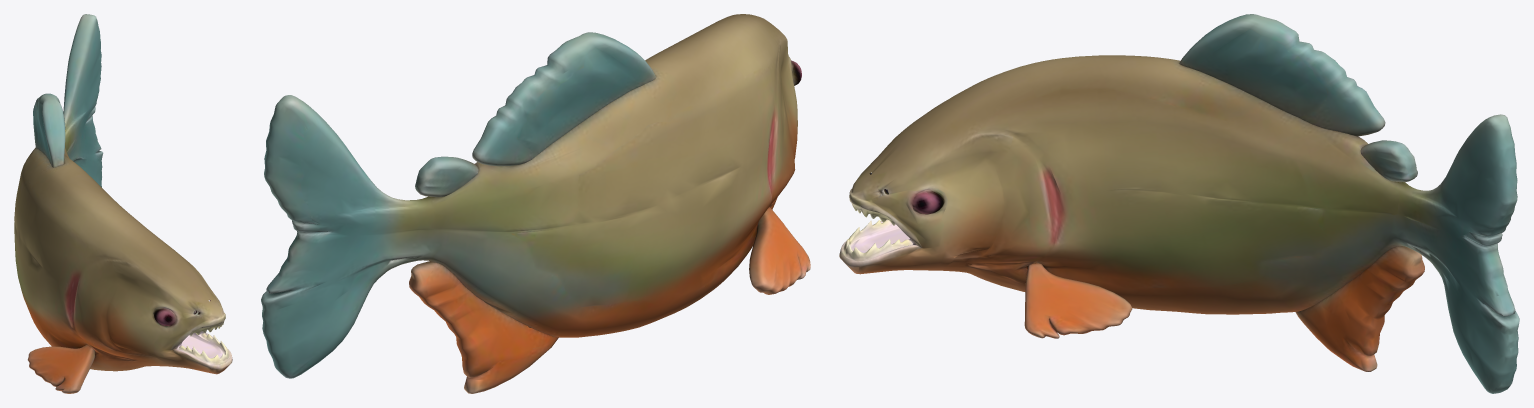
The model's file is MZ4250 - Quipper.glb.
3 renders of one model, left to right at view 1: azimuth 30°, elevation 25°; view 2: azimuth 150°, elevation 25°; view 3: azimuth 270°, elevation 25°, orthographic. The views are drawn at different scales.
Visible parts, largest first — view 1: Piranha t.001; view 2: Piranha t.001; view 3: Piranha t.001.
Boxes of the visible parts, bbox=[...] form: Piranha t.001: bbox=[14, 14, 232, 393]; Piranha t.001: bbox=[261, 14, 810, 393]; Piranha t.001: bbox=[839, 14, 1519, 393].
Bounding box in the file's own units: 10.32 × 10.46 × 19.86.
Materials: 1 (1 with a texture image).
